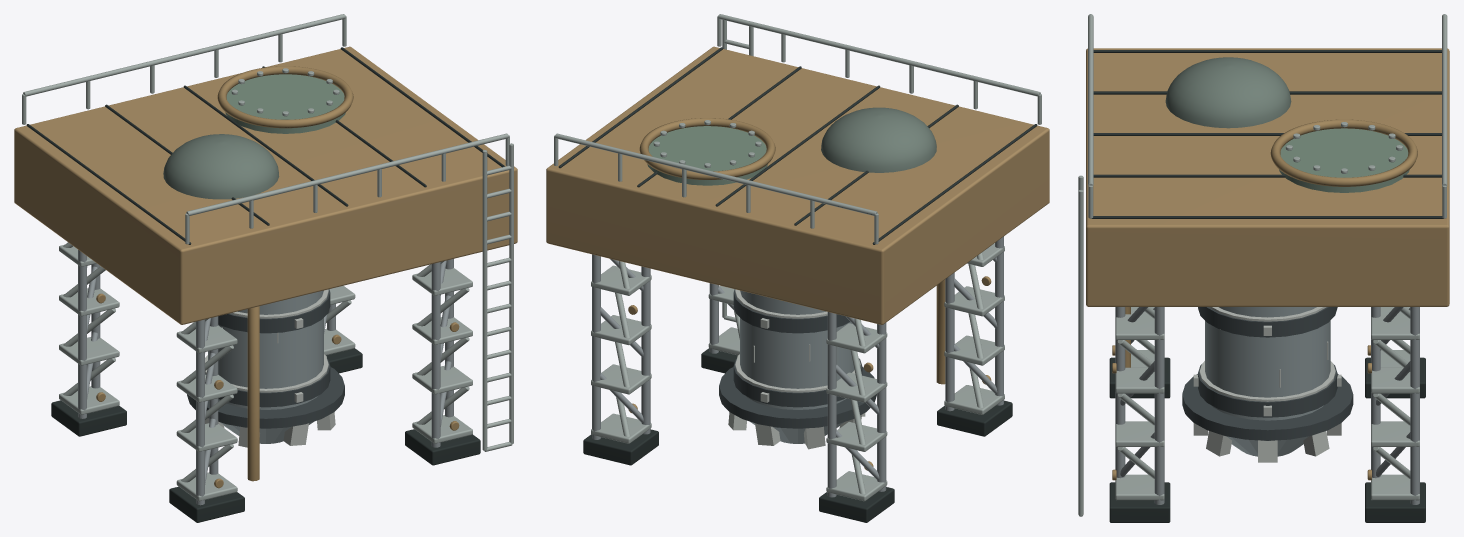
The picture shows the model from 3 angles, left to right: view 1: azimuth 30°, elevation 25°; view 2: azimuth 150°, elevation 25°; view 3: azimuth 270°, elevation 25°; orthographic projection. The views are drawn at different scales.
Visible parts, largest first — view 1: Raised mine deck, Mine deck dome, Mine correction | continuous bore pipe, Mine rear hatch, Mine correction | cutting crown shoulder, Drilling hatch clamp, Drilling hydraulic feed, Safety handrail.001, Safety handrail, Service ladder rail, Mine trestle leg.004, Trestle foundation shoe.002 (+22 smaller); view 2: Raised mine deck, Mine correction | continuous bore pipe, Mine deck dome, Mine rear hatch, Mine correction | cutting crown shoulder, Drilling hatch clamp, Safety handrail, Safety handrail.001, Mine trestle leg.003, Trestle foundation shoe.003, Trestle foundation shoe.001, Trestle foundation shoe (+24 smaller); view 3: Raised mine deck, Mine correction | continuous bore pipe, Mine deck dome, Mine rear hatch, Mine correction | cutting crown shoulder, Drilling hatch clamp, Mine correction | pipe service coupling, Mine correction | pipe service coupling.001, Mine trestle leg.005, Service ladder rail.001, Mine trestle leg.007, Trestle foundation shoe.002 (+26 smaller).
Boxes of the visible parts, left/top/right/bottom form: Raised mine deck: left=14, top=46, right=517, bottom=324; Mine deck dome: left=163, top=134, right=279, bottom=199; Mine correction | continuous bore pipe: left=208, top=290, right=323, bottom=409; Mine rear hatch: left=225, top=74, right=345, bottom=133; Mine correction | cutting crown shoulder: left=187, top=367, right=344, bottom=428; Drilling hatch clamp: left=217, top=66, right=353, bottom=128; Drilling hydraulic feed: left=247, top=306, right=259, bottom=481; Safety handrail.001: left=186, top=133, right=508, bottom=215; Safety handrail: left=23, top=14, right=345, bottom=96; Service ladder rail: left=482, top=150, right=487, bottom=450; Mine trestle leg.004: left=431, top=262, right=440, bottom=447; Trestle foundation shoe.002: left=405, top=429, right=480, bottom=465; Raised mine deck: left=546, top=46, right=1049, bottom=324; Mine correction | continuous bore pipe: left=740, top=290, right=854, bottom=409; Mine deck dome: left=821, top=107, right=936, bottom=172; Mine rear hatch: left=647, top=126, right=767, bottom=185; Mine correction | cutting crown shoulder: left=719, top=367, right=876, bottom=428; Drilling hatch clamp: left=639, top=118, right=775, bottom=179; Safety handrail: left=555, top=133, right=877, bottom=215; Safety handrail.001: left=718, top=14, right=1040, bottom=96; Mine trestle leg.003: left=827, top=312, right=836, bottom=497; Trestle foundation shoe.003: left=583, top=429, right=658, bottom=465; Trestle foundation shoe.001: left=819, top=487, right=894, bottom=522; Trestle foundation shoe: left=937, top=400, right=1012, bottom=436; Raised mine deck: left=1086, top=48, right=1449, bottom=306; Mine correction | continuous bore pipe: left=1205, top=307, right=1330, bottom=420; Mine deck dome: left=1165, top=57, right=1291, bottom=128; Mine rear hatch: left=1279, top=128, right=1409, bottom=192; Mine correction | cutting crown shoulder: left=1182, top=374, right=1353, bottom=440; Drilling hatch clamp: left=1270, top=119, right=1417, bottom=186; Mine correction | pipe service coupling: left=1198, top=364, right=1337, bottom=417; Mine correction | pipe service coupling.001: left=1198, top=307, right=1337, bottom=337; Mine trestle leg.005: left=1154, top=307, right=1164, bottom=504; Service ladder rail.001: left=1078, top=190, right=1083, bottom=515; Mine trestle leg.007: left=1410, top=307, right=1419, bottom=504; Trestle foundation shoe.002: left=1109, top=482, right=1170, bottom=522.
Size of the model in its own units: 2.15 by 1.96 by 1.89.
